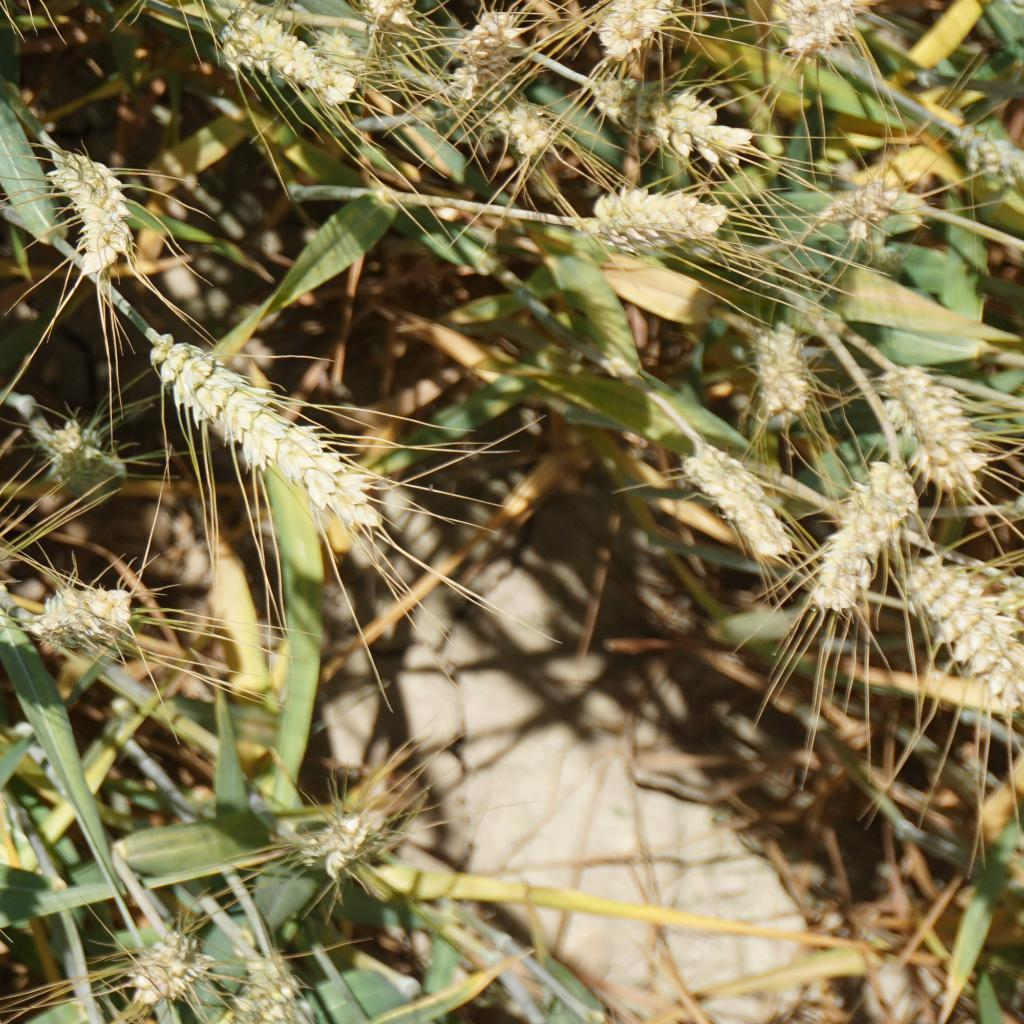0-0: (119, 320, 405, 548), (652, 412, 812, 577), (803, 444, 921, 608), (896, 557, 1019, 700), (204, 0, 356, 111), (584, 69, 740, 172), (874, 349, 987, 486), (28, 144, 135, 264), (742, 332, 835, 444), (598, 182, 729, 261), (27, 415, 126, 493), (236, 948, 318, 1024), (44, 587, 136, 652), (126, 930, 207, 1002), (943, 122, 1024, 193), (453, 3, 520, 85), (780, 0, 864, 60), (314, 800, 385, 867), (490, 88, 557, 157), (824, 176, 899, 237), (364, 0, 428, 59), (592, 0, 685, 36)
